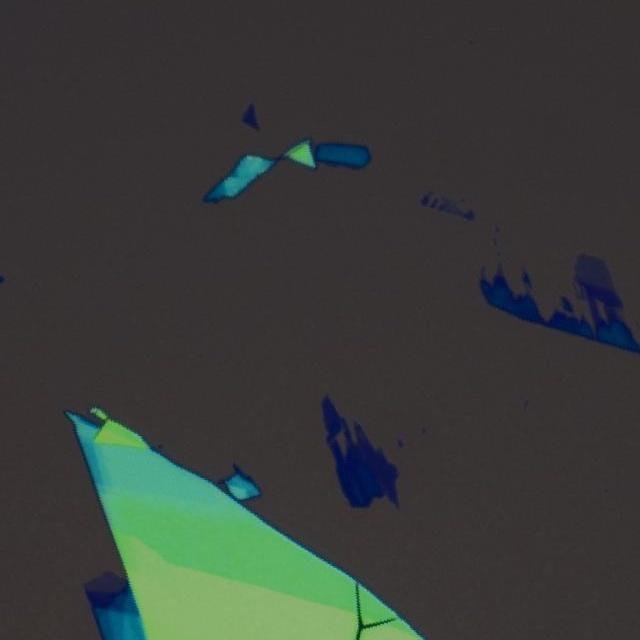monolayer-eWW4: (572, 252, 612, 287)
